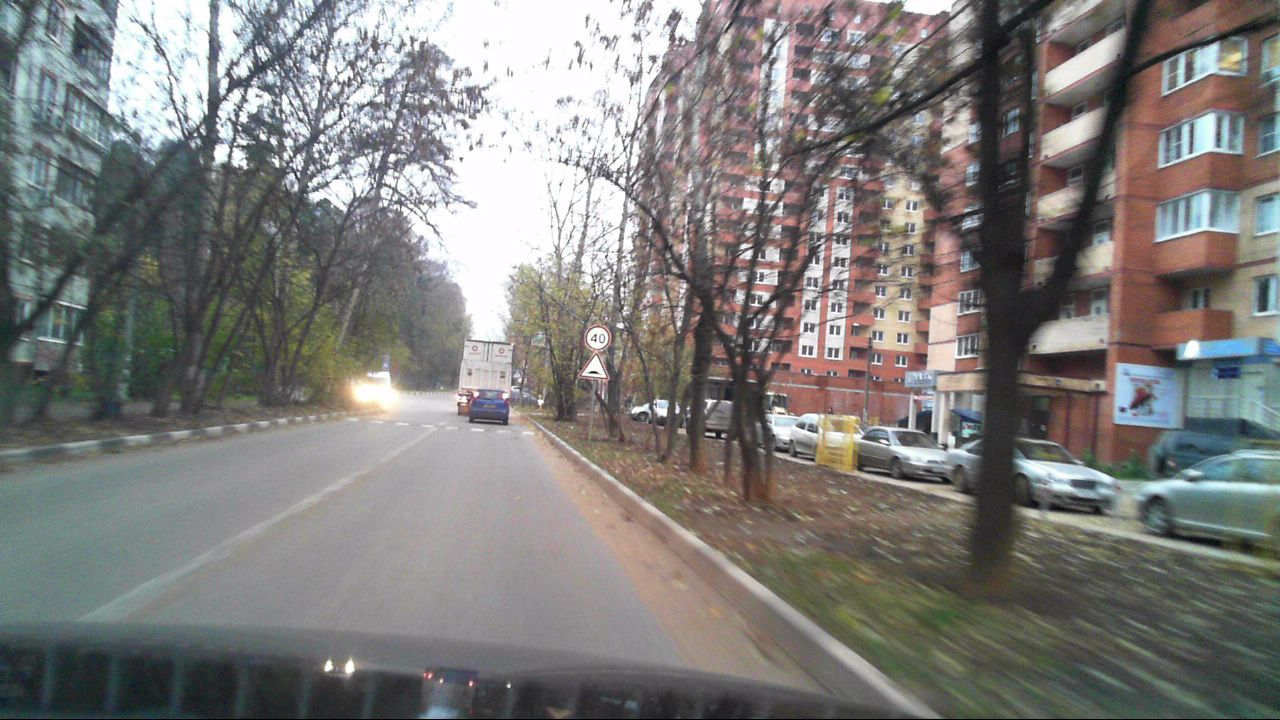speed_warning_40: (584, 325, 610, 351)
